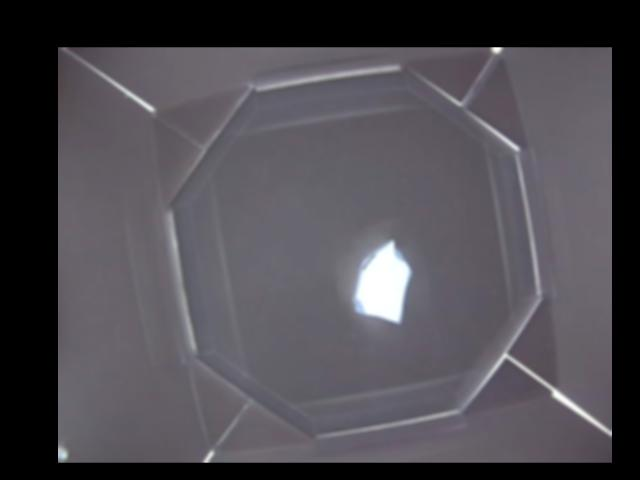China: (350, 238, 413, 325)
